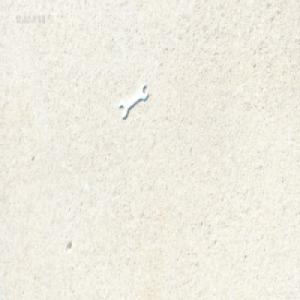Wrench: (118, 82, 149, 118)
